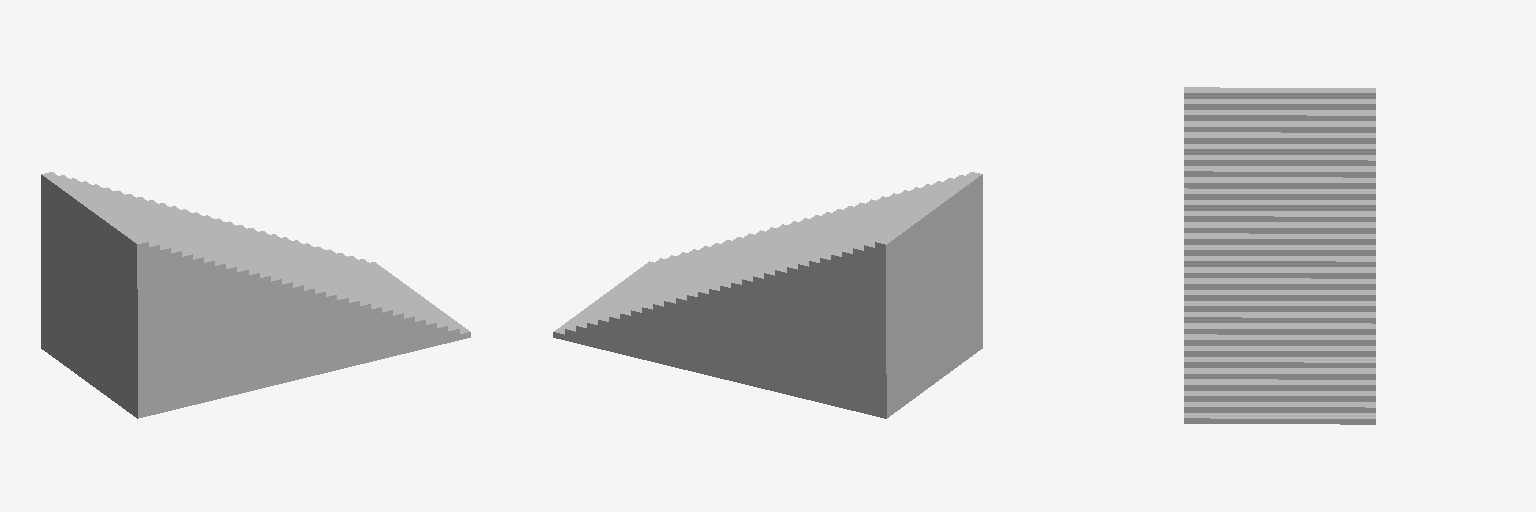
File: Stairs (1).obj
3 renders of one model, left to right at view 1: azimuth 30°, elevation 25°; view 2: azimuth 150°, elevation 25°; view 3: azimuth 270°, elevation 25°, orthographic.
Parts seen in each view (by area): view 1: Stairs (1); view 2: Stairs (1); view 3: Stairs (1).
Boxes of the visible parts, x1,y1,x2,y2 form: Stairs (1): [41, 172, 470, 418]; Stairs (1): [553, 172, 982, 418]; Stairs (1): [1184, 87, 1375, 424].
Bounding box in the file's own units: 30 × 15.02 × 15.02.